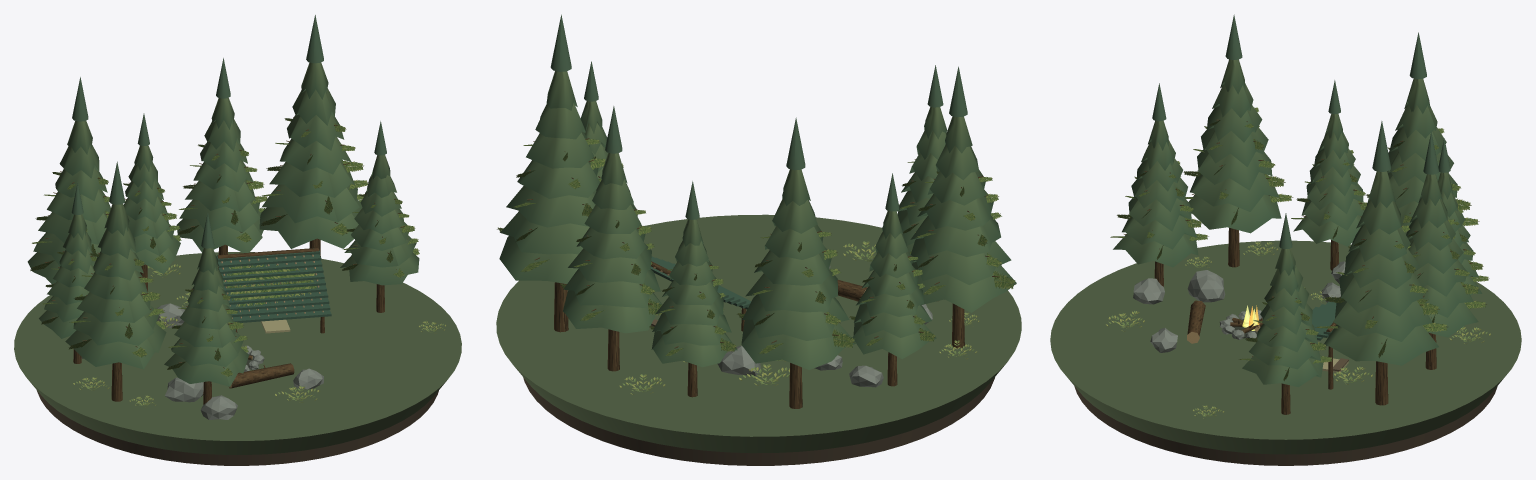
File: hollowpine-forest-campsite.glb
The picture shows the model from 3 angles, left to right: view 1: azimuth 30°, elevation 25°; view 2: azimuth 150°, elevation 25°; view 3: azimuth 270°, elevation 25°; orthographic projection. The views are drawn at different scales.
Parts seen in each view (by area): view 1: Batched_geometry (×17), HOLLOWPINE_Forest_Campsite, Pine_bough_lean_to, Fallen_branch; view 2: Batched_geometry (×22), HOLLOWPINE_Forest_Campsite; view 3: HOLLOWPINE_Forest_Campsite, Batched_geometry (×19), Fallen_branch.
Boxes of the visible parts, x1,y1,x2,y2 form: Batched_geometry (×17): (27, 15, 419, 401); HOLLOWPINE_Forest_Campsite: (14, 252, 461, 465); Pine_bough_lean_to: (223, 261, 316, 311); Fallen_branch: (229, 363, 294, 388); Batched_geometry (×22): (497, 14, 1016, 408); HOLLOWPINE_Forest_Campsite: (496, 214, 1021, 465); HOLLOWPINE_Forest_Campsite: (1050, 240, 1521, 465); Batched_geometry (×19): (1110, 59, 1486, 405); Fallen_branch: (1187, 300, 1205, 343).
Bounding box in the file's own units: 13.65 × 10.15 × 13.6.
23 materials, 3 textured.
